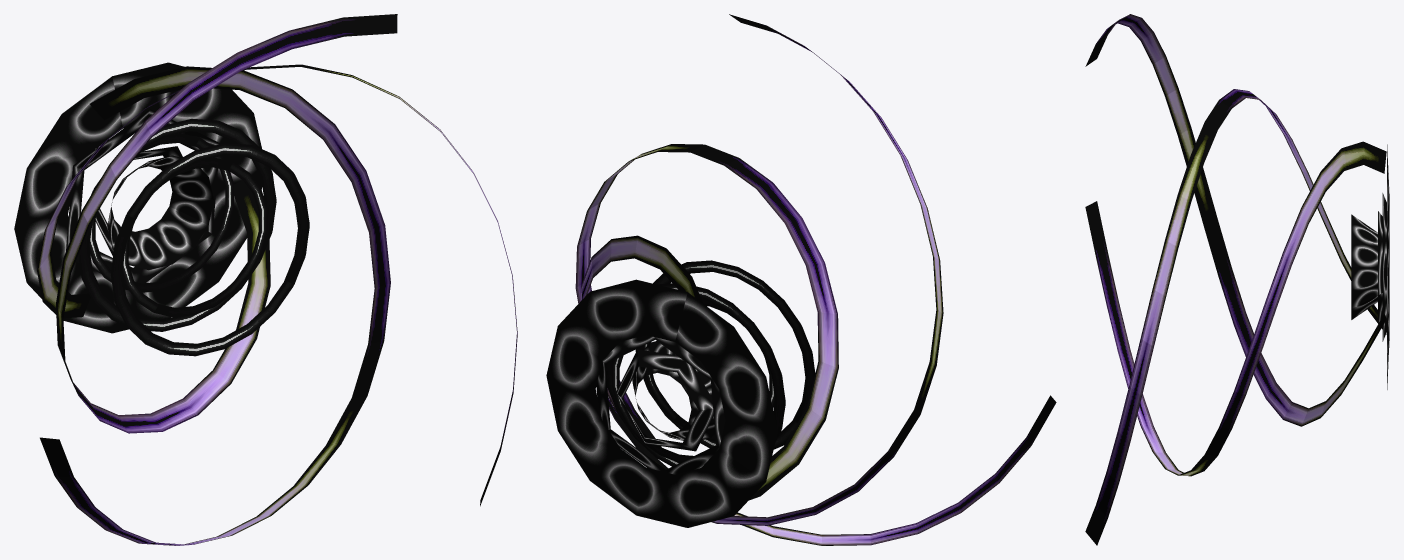
Rendered from tx_soulhunter_shenglinxintai_fire.obj.
3 renders of one model, left to right at view 1: azimuth 30°, elevation 25°; view 2: azimuth 150°, elevation 25°; view 3: azimuth 270°, elevation 25°, orthographic. The views are drawn at different scales.
Parts seen in each view (by area): view 1: Cylinder06, Plane01, Plane11, Cylinder10, Plane03, Plane04, Plane12, Cylinder05, Plane08, Plane07, Plane06, Plane10 (+3 smaller); view 2: Cylinder06, Plane12, Plane11, Plane01, Cylinder05, Cylinder04, Plane03, Plane07, Cylinder10, Plane04; view 3: Plane11, Plane12, Plane01, Cylinder10, Cylinder05, Cylinder06, Cylinder04.
Part boxes in pixels (x1,y1,x2,y2): Cylinder06: (14, 62, 262, 333); Plane01: (56, 14, 397, 433); Plane11: (40, 66, 390, 545); Cylinder10: (107, 155, 213, 270); Plane03: (110, 143, 309, 324); Plane04: (110, 174, 309, 356); Plane12: (37, 64, 517, 506); Cylinder05: (66, 109, 219, 283); Plane08: (78, 170, 276, 331); Plane07: (80, 118, 276, 300); Plane06: (154, 158, 267, 317); Plane10: (124, 133, 233, 292); Cylinder06: (546, 279, 777, 527); Plane12: (575, 144, 838, 500); Plane11: (581, 235, 1056, 545); Plane01: (711, 14, 943, 525); Cylinder05: (596, 335, 725, 474); Cylinder04: (616, 349, 713, 451); Plane03: (646, 260, 815, 423); Plane07: (615, 283, 785, 442); Cylinder10: (632, 341, 715, 440); Plane04: (635, 327, 813, 449); Plane11: (1085, 141, 1386, 476); Plane12: (1085, 89, 1386, 545); Plane01: (1085, 14, 1386, 426); Cylinder10: (1351, 214, 1377, 319); Cylinder05: (1382, 193, 1386, 341); Cylinder06: (1387, 144, 1389, 389); Cylinder04: (1378, 211, 1382, 323).
Bounding box in the file's own units: 233 × 232 × 140.
Materials: 3 (3 with a texture image).
